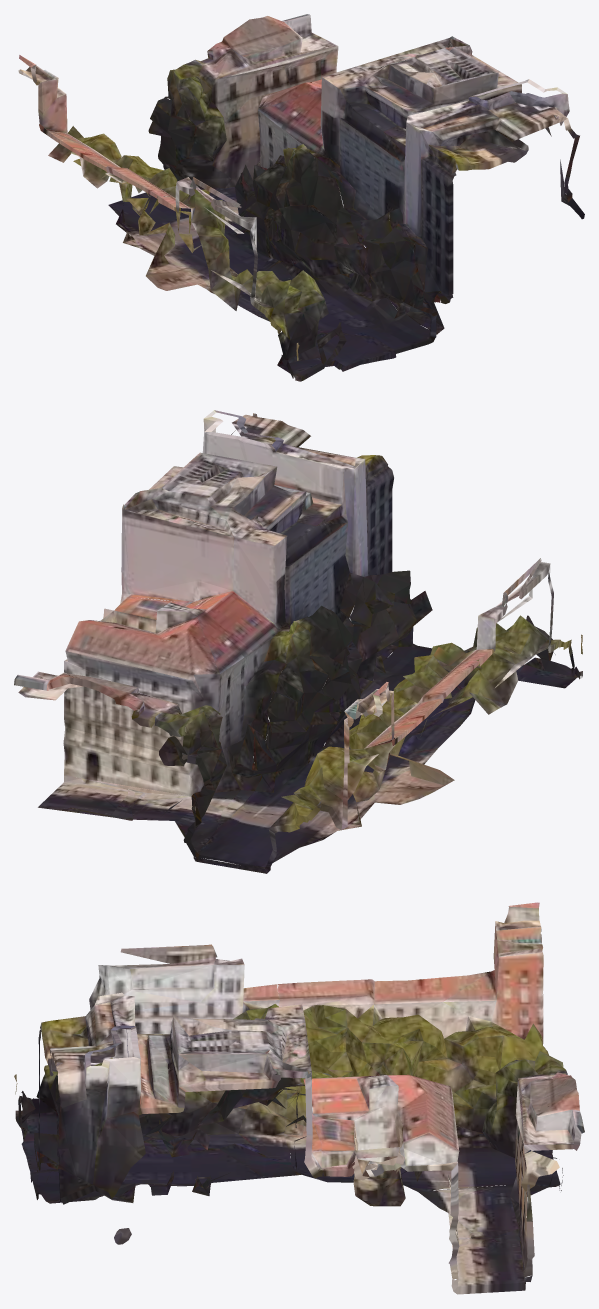
3 views of the same model, one above another, from view 1: azimuth 30°, elevation 25°; view 2: azimuth 150°, elevation 25°; view 3: azimuth 270°, elevation 25° (orthographic). The views are drawn at different scales.
Visible parts, largest first — view 1: Mesh_0; view 2: Mesh_0; view 3: Mesh_0.
Boxes of the visible parts, x1,y1,x2,y2 form: Mesh_0: (18,14,584,381); Mesh_0: (14,410,582,873); Mesh_0: (14,902,584,1294).
Bounding box in the file's own units: 67.5 × 39.07 × 82.71.
Materials: 1 (1 with a texture image).
